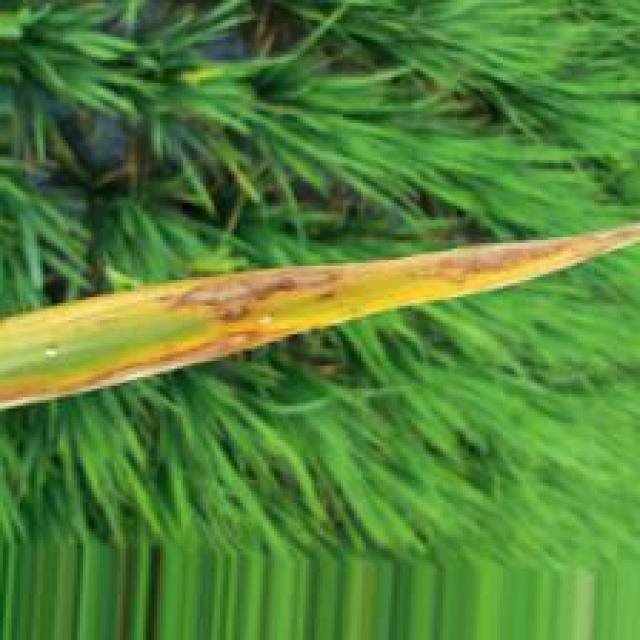Bacterial_Leaf_Blight: (0, 221, 640, 412)
